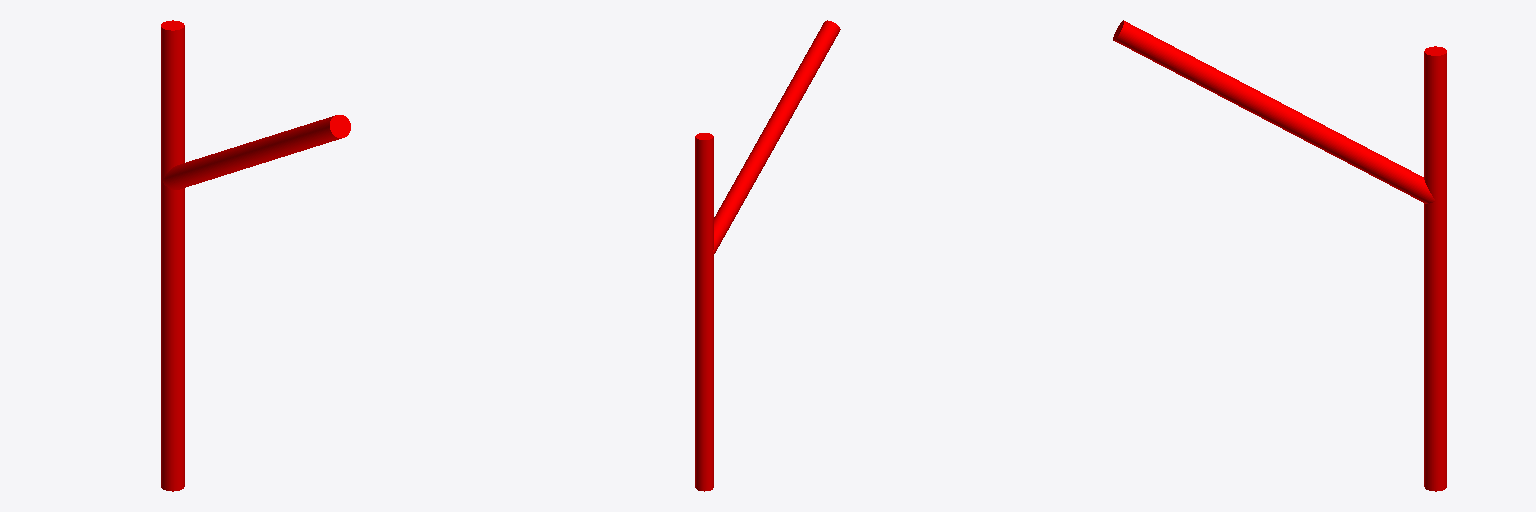
robot.urdf — tree.urdf:
<?xml version="1.0" ?>
<robot name="tree.urdf">
  <link name="baseLink">
    <inertial>
      <origin rpy="0 0 0" xyz="0 0 0"/>
       <mass value=".1"/>
       <inertia ixx="1" ixy="0" ixz="0" iyy="1" iyz="0" izz="1"/>
    </inertial>
    <contact>
      <lateral_friction value="1.0"/>
      <inertia_scaling value="3.0"/>
    </contact>
    <visual>
      <origin rpy="0 0 0" xyz="0 0 0"/>
      <geometry>
        <mesh filename="12.stl" scale="1 1 1" />
      </geometry>
      <material name="red">
        <color rgba="1 0 0 1"/>
      </material>
    </visual>
    <collision>
      <origin rpy="0 0 0" xyz="0 0 0"/>
      <geometry>
        <mesh filename="12_convex.obj" scale="1 1 1" />
      </geometry>
    </collision>
  </link>
</robot>

--- Facts derived from the render (not from the file) ---
The picture shows the robot from 3 angles, left to right: view 1: azimuth 30°, elevation 25°; view 2: azimuth 150°, elevation 25°; view 3: azimuth 270°, elevation 25°; orthographic projection.
Robot: tree.urdf — 1 links, 0 joints (none); root link baseLink; default pose: every joint at zero.
Links seen in each view (by area): view 1: baseLink; view 2: baseLink; view 3: baseLink.
Boxes of the visible links, bbox=[...] form: baseLink: bbox=[161, 20, 350, 491]; baseLink: bbox=[695, 20, 840, 491]; baseLink: bbox=[1113, 20, 1446, 491].
Bounding box of the posed robot: 0.0117 × 0.1737 × 0.267 m (x, y, z).
Meshes: 1 distinct files referenced, 1 mesh visuals loaded (1 binary STL).